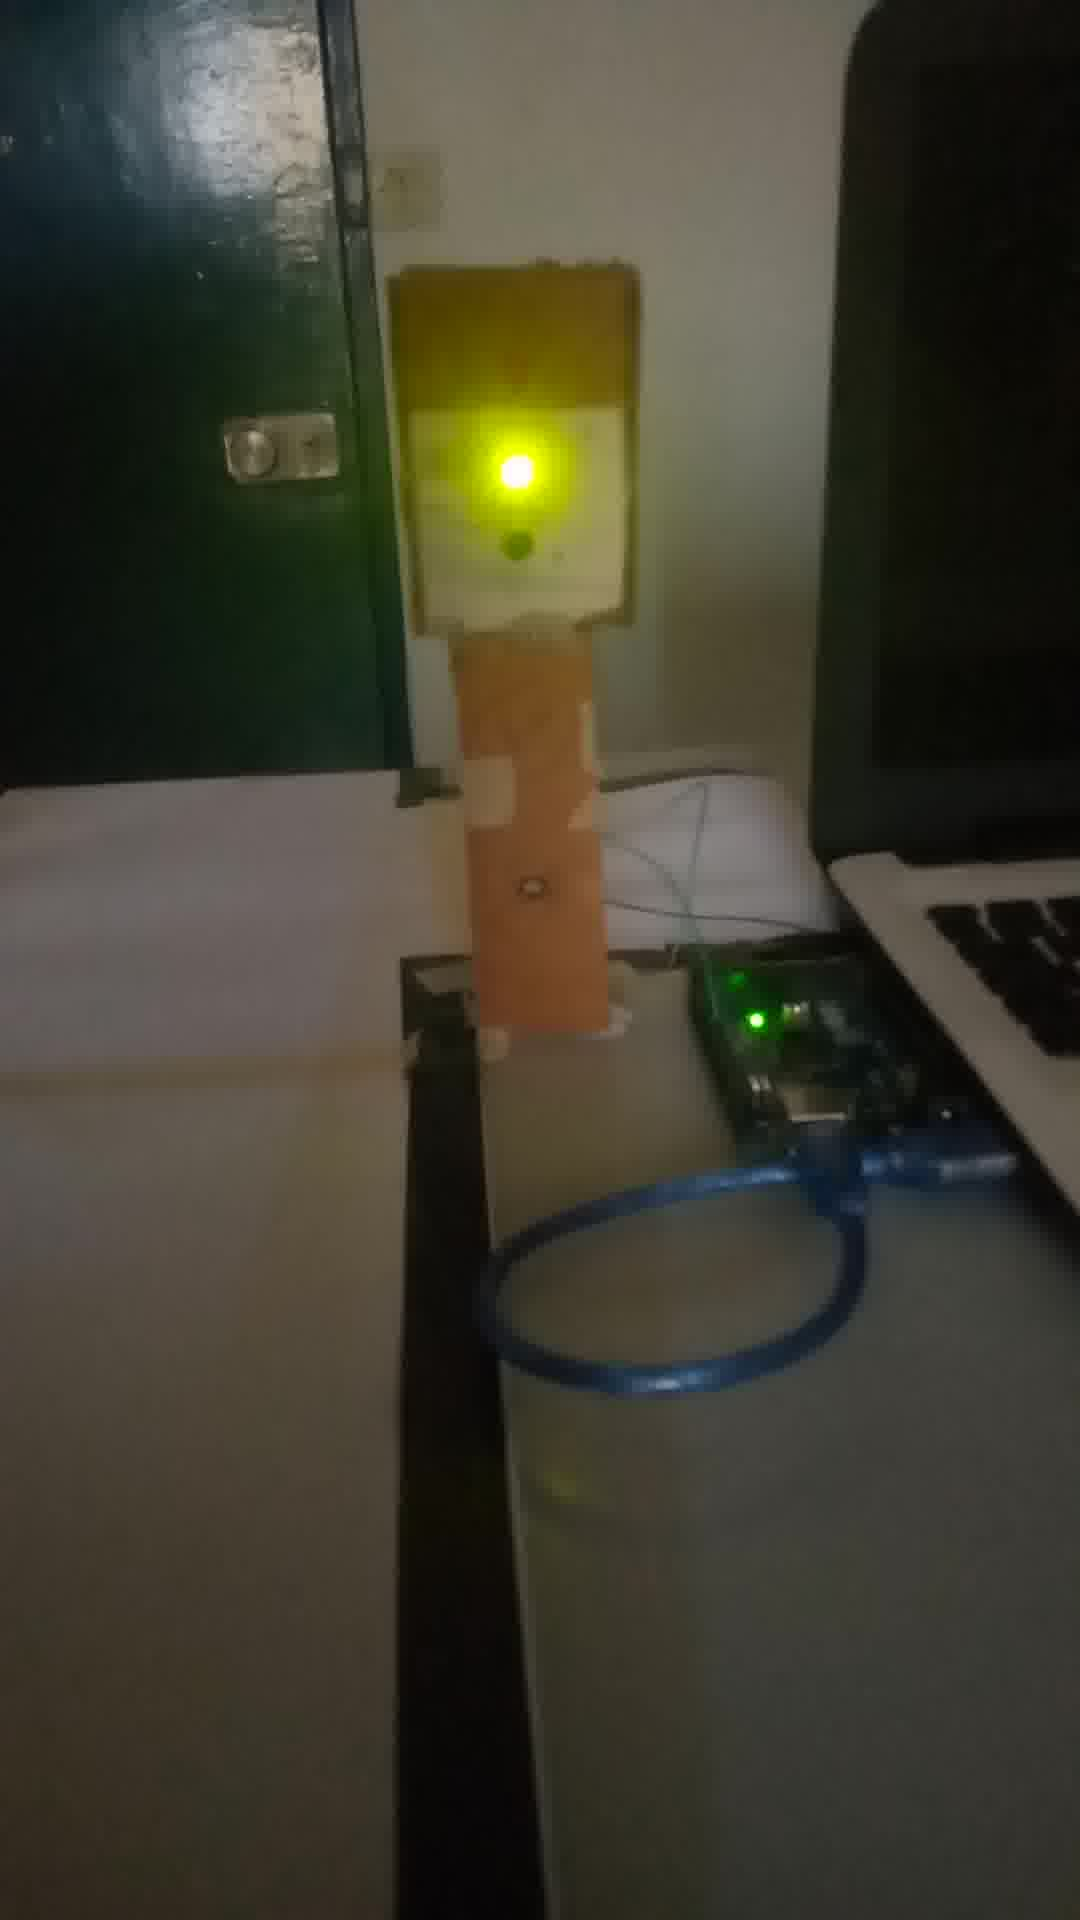yellow: (386, 286, 641, 607)
